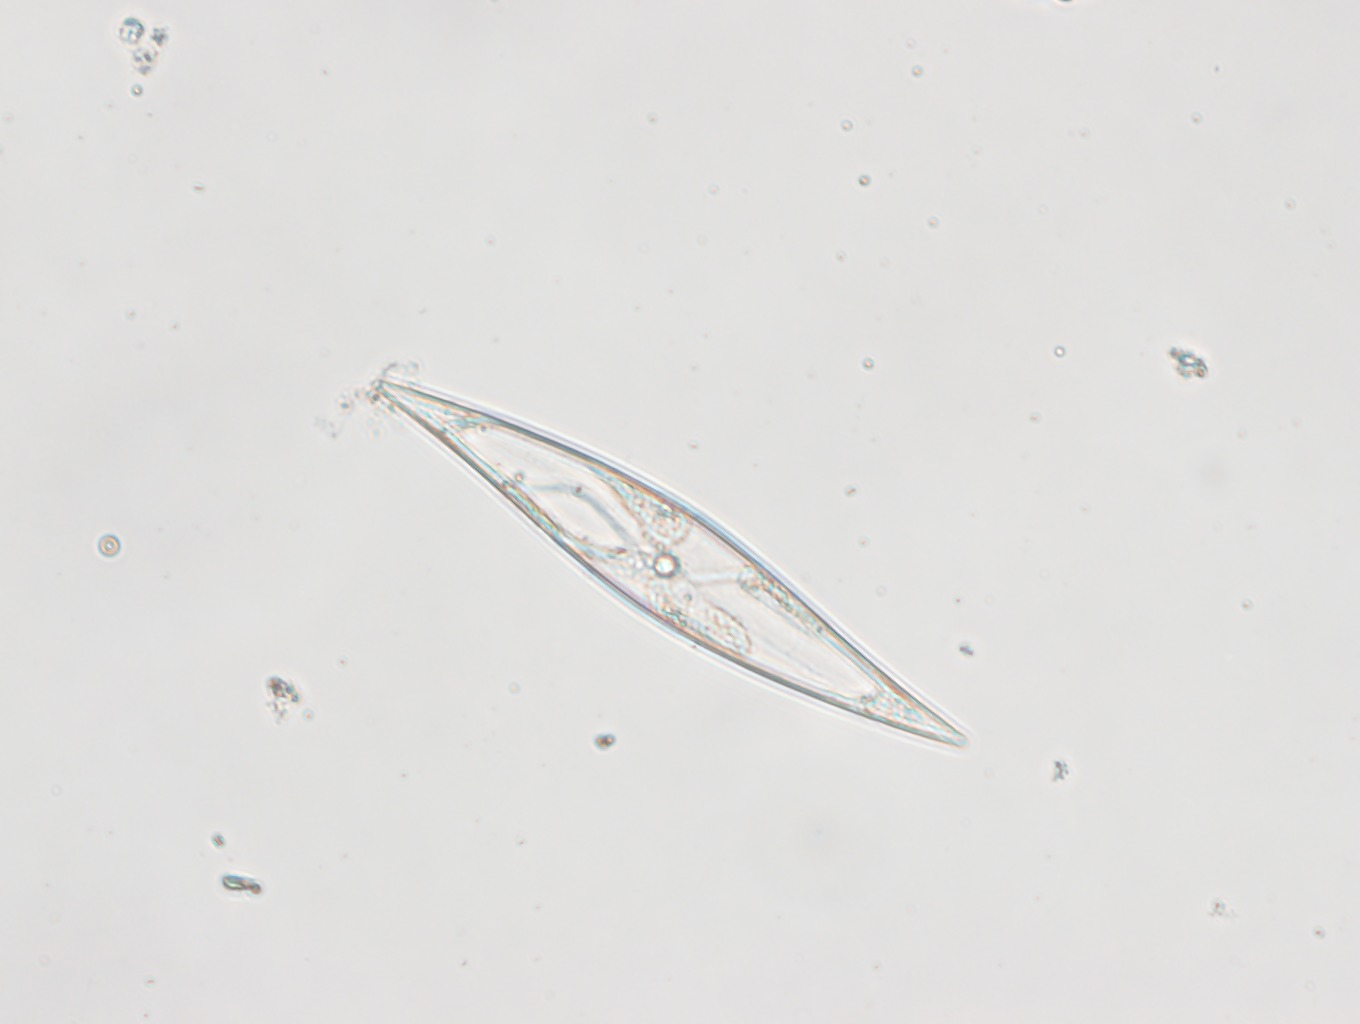pleurosigma pelagicum: (360, 369, 980, 768)
